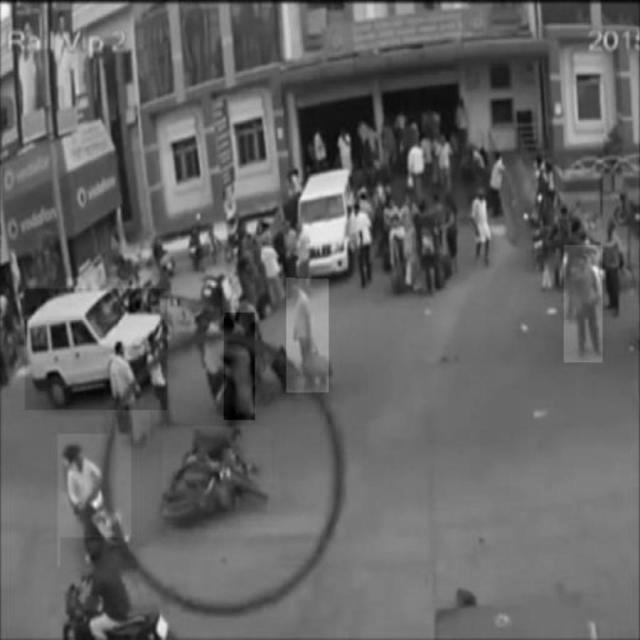person: (287, 278, 329, 392), (564, 245, 602, 363), (109, 339, 151, 443), (224, 312, 254, 420)
vehicle: (26, 289, 168, 410), (60, 538, 172, 639), (163, 426, 271, 524), (58, 434, 131, 566), (296, 169, 351, 279)
